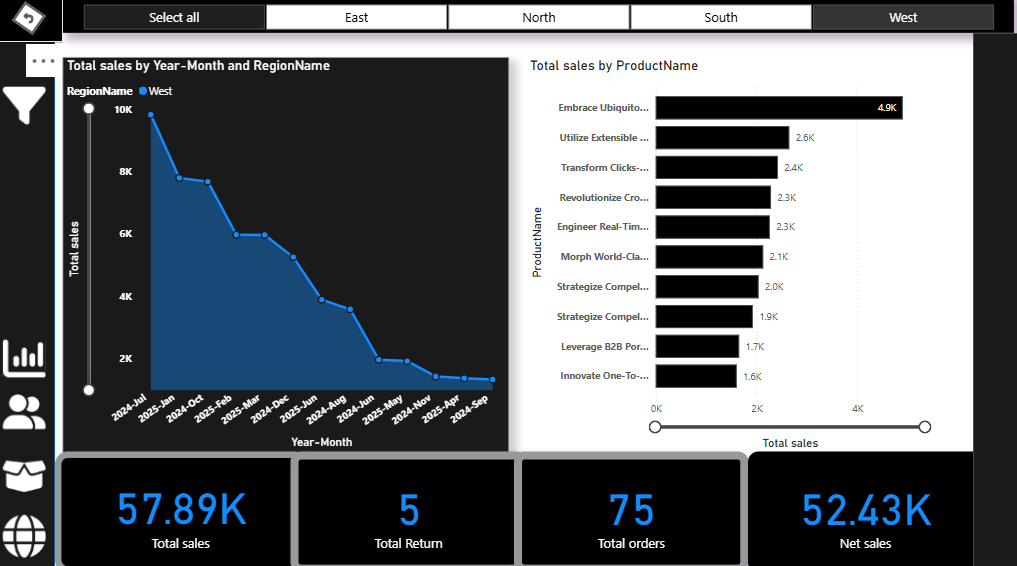

Layout of this report page (visuals, bound fields, positions):
{"tool":"powerbi","page":{"name":"Dashboard","canvas":[1280,720],"ordinal":0},"visuals":[{"type":"lineChart","fields":{"Category":["FinalProject_Dataset - Date_Dim.Year-Month"],"Y":["Measure Table.Total sales"],"Series":["FinalProject_Dataset - Region_Dim.RegionName"]},"box":[84.2,77.7,555.4,492.2],"z":0},{"type":"slicer","fields":{"Values":["FinalProject_Dataset - Region_Dim.RegionName"]},"box":[84.7,0,1182.4,48.1],"z":2000},{"type":"clusteredBarChart","fields":{"Category":["FinalProject_Dataset - Product_Dim.ProductName"],"Y":["Measure Table.Total sales"]},"box":[660.6,77.7,508.4,492.2],"z":3000},{"type":"card","fields":{"Values":["Measure Table.Total sales"]},"box":[74.5,568.3,312.5,150.6],"z":4000},{"type":"card","fields":{"Values":["Measure Table.Total Return"]},"box":[367.6,568.3,293.1,150.6],"z":5000},{"type":"card","fields":{"Values":["Measure Table.Total orders"]},"box":[644.5,568.3,291.5,150.6],"z":6000},{"type":"card","fields":{"Values":["Measure Table.Net sales"]},"box":[935.9,568.3,291.5,150.6],"z":7000},{"type":"shape","box":[0,0,74.5,718.9],"z":8000},{"type":"shape","box":[1216,48.6,64.8,672],"z":9000},{"type":"actionButton","box":[5.8,417.9,61.6,71.3],"z":10000},{"type":"actionButton","box":[5.8,489.2,61.6,61.6],"z":11000},{"type":"actionButton","box":[5.8,568.1,61.6,61.6],"z":12000},{"type":"actionButton","box":[5.8,643.2,61.6,61.6],"z":13000},{"type":"actionButton","box":[0,0,84.2,59.9],"z":14000},{"type":"actionButton","box":[5.6,102.6,61.5,72.7],"z":15000}]}

Visuals, with their boxes on the page's 1280x720 design canvas (x1, y1, x2, y2). These are canvas units, not pixel positions in the 1017x566 screenshot, which may show the page scaled, cropped or inside an application window:
lineChart - FinalProject_Dataset - Date_Dim.Year-Month x Measure Table.Total sales: [x1=84, y1=78, x2=640, y2=570]
slicer - FinalProject_Dataset - Region_Dim.RegionName: [x1=85, y1=0, x2=1267, y2=48]
clusteredBarChart - FinalProject_Dataset - Product_Dim.ProductName x Measure Table.Total sales: [x1=661, y1=78, x2=1169, y2=570]
card - Measure Table.Total sales: [x1=74, y1=568, x2=387, y2=719]
card - Measure Table.Total Return: [x1=368, y1=568, x2=661, y2=719]
card - Measure Table.Total orders: [x1=644, y1=568, x2=936, y2=719]
card - Measure Table.Net sales: [x1=936, y1=568, x2=1227, y2=719]
shape: [x1=0, y1=0, x2=74, y2=719]
shape: [x1=1216, y1=49, x2=1281, y2=721]
actionButton: [x1=6, y1=418, x2=67, y2=489]
actionButton: [x1=6, y1=489, x2=67, y2=551]
actionButton: [x1=6, y1=568, x2=67, y2=630]
actionButton: [x1=6, y1=643, x2=67, y2=705]
actionButton: [x1=0, y1=0, x2=84, y2=60]
actionButton: [x1=6, y1=103, x2=67, y2=175]
